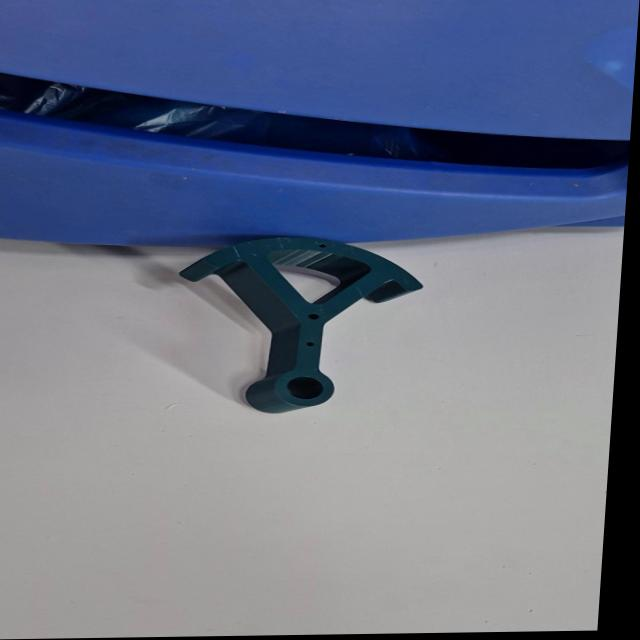haptic: (167, 233, 430, 417)
